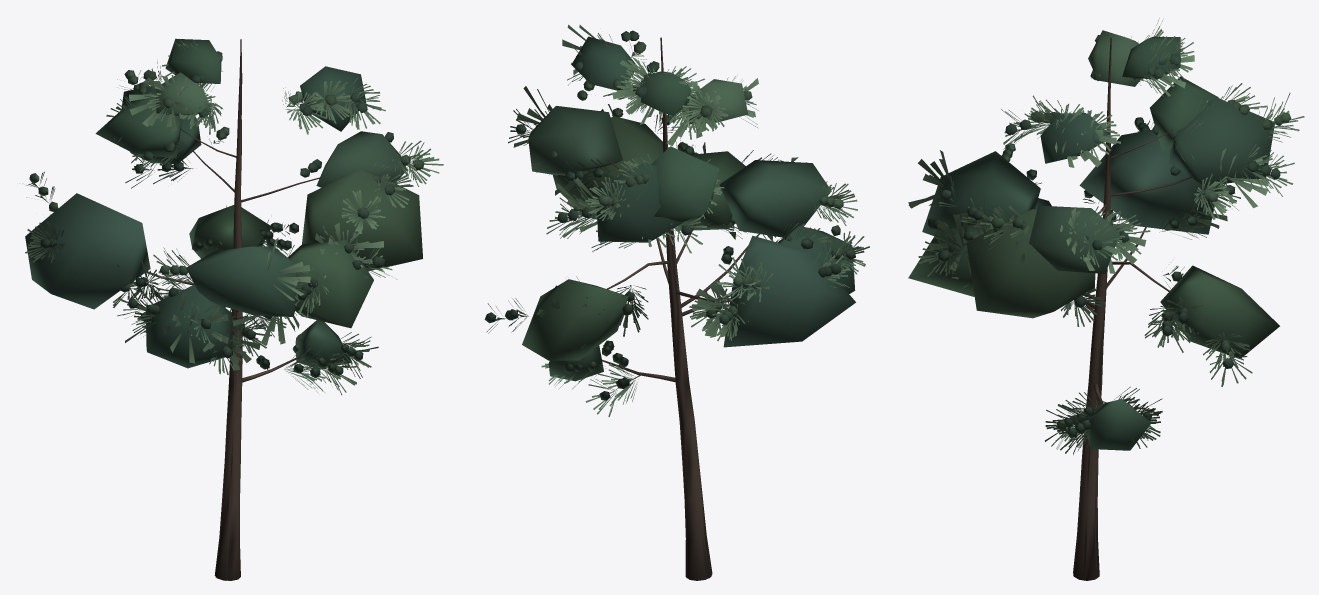
File: white-pine.glb
3 views of the same model, side by side, from view 1: azimuth 30°, elevation 25°; view 2: azimuth 150°, elevation 25°; view 3: azimuth 270°, elevation 25° (orthographic). The views are drawn at different scales.
Parts seen in each view (by area): view 1: white-pine-lo, white-pine; view 2: white-pine-lo, white-pine; view 3: white-pine-lo, white-pine.
Part boxes in pixels (x1,y1,x2,y2): white-pine-lo: [25, 38, 422, 580]; white-pine: [25, 38, 443, 580]; white-pine-lo: [513, 24, 855, 578]; white-pine: [484, 30, 869, 580]; white-pine-lo: [908, 30, 1279, 580]; white-pine: [918, 18, 1304, 580].
Bounding box in the file's own units: 17.07 × 24.16 × 15.66.
